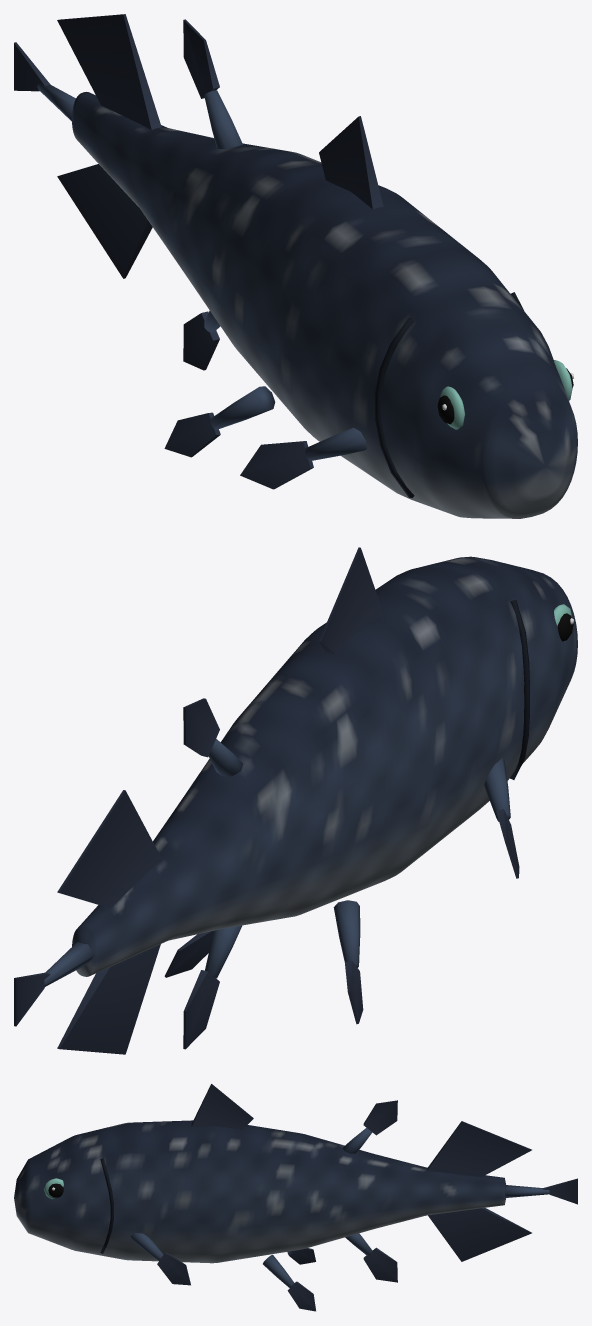
File: Undina.fbx
3 views of the same model, one above another, from view 1: azimuth 30°, elevation 25°; view 2: azimuth 150°, elevation 25°; view 3: azimuth 270°, elevation 25° (orthographic). The views are drawn at different scales.
Visible parts, largest first — view 1: Undina; view 2: Undina; view 3: Undina.
Part boxes in pixels (x1,y1,x2,y2): Undina: (14,14,577,518); Undina: (14,547,577,1054); Undina: (14,1084,577,1311).
Bounding box in the file's own units: 0.4862 × 0.635 × 1.6.
